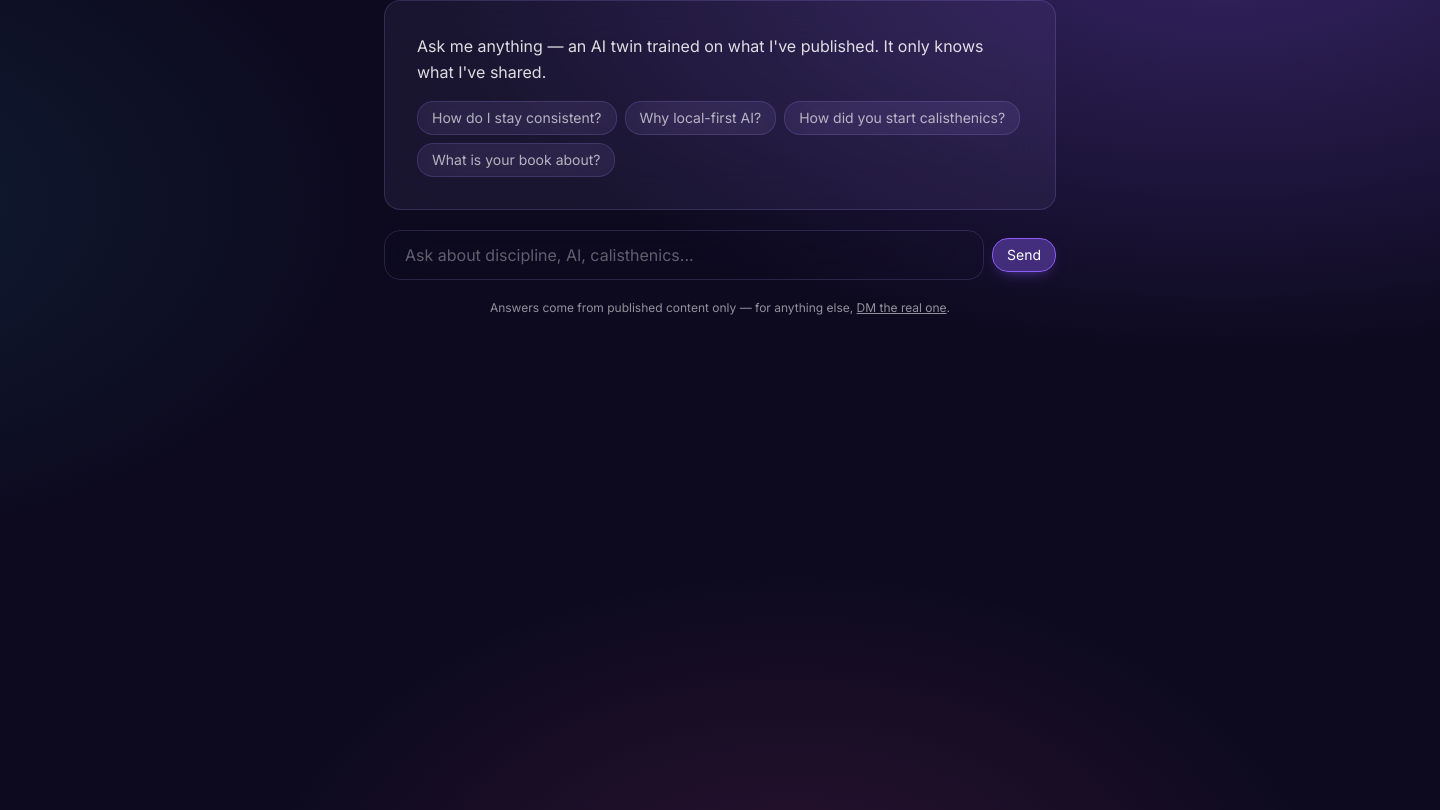
Test case: AskChat › shows a generic error state when the request fails
Type "Are you there?" into the field with test id "ask-input" at (684, 255), box [384,230,984,280]
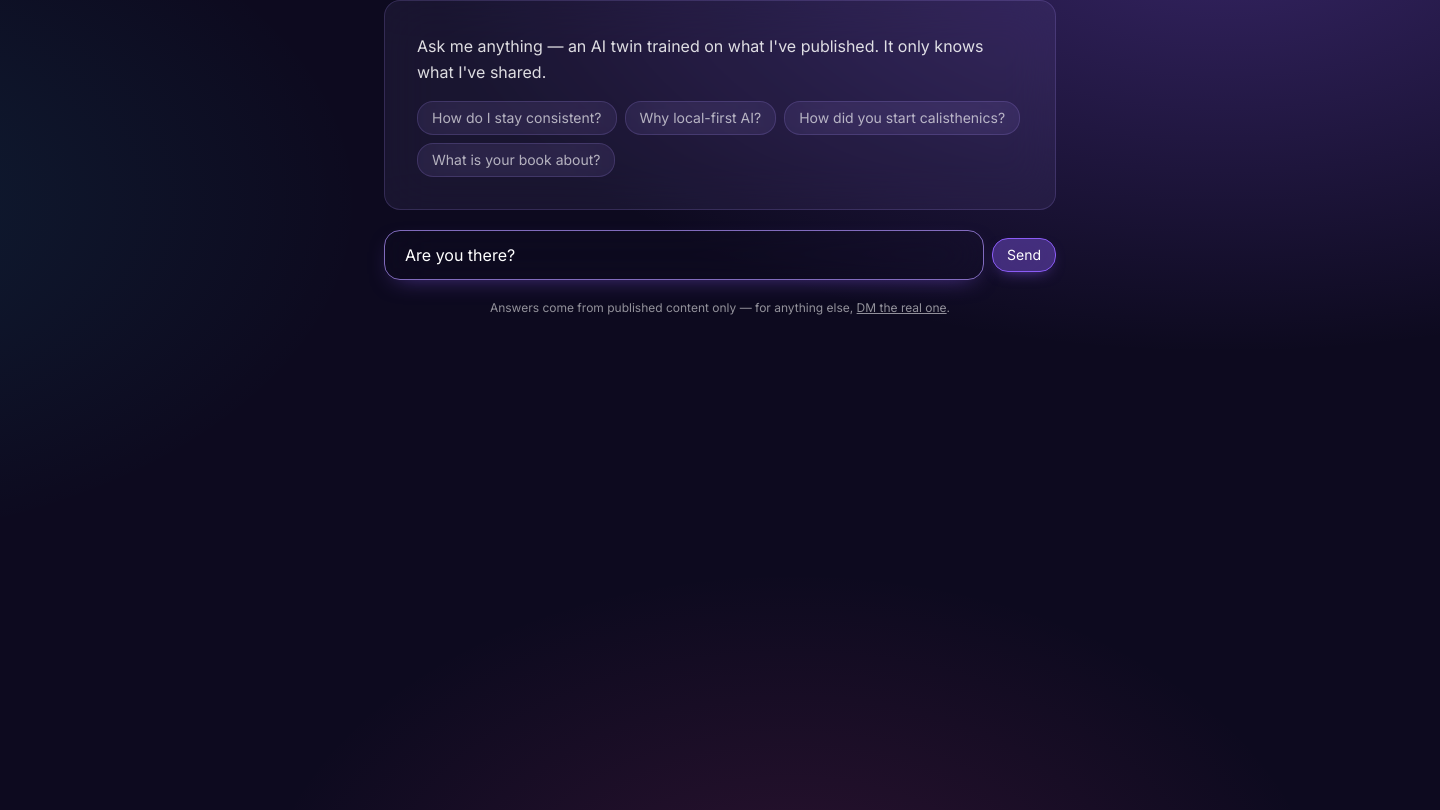
Click the button with test id "ask-send" at (1024, 255), box [992,238,1056,272]
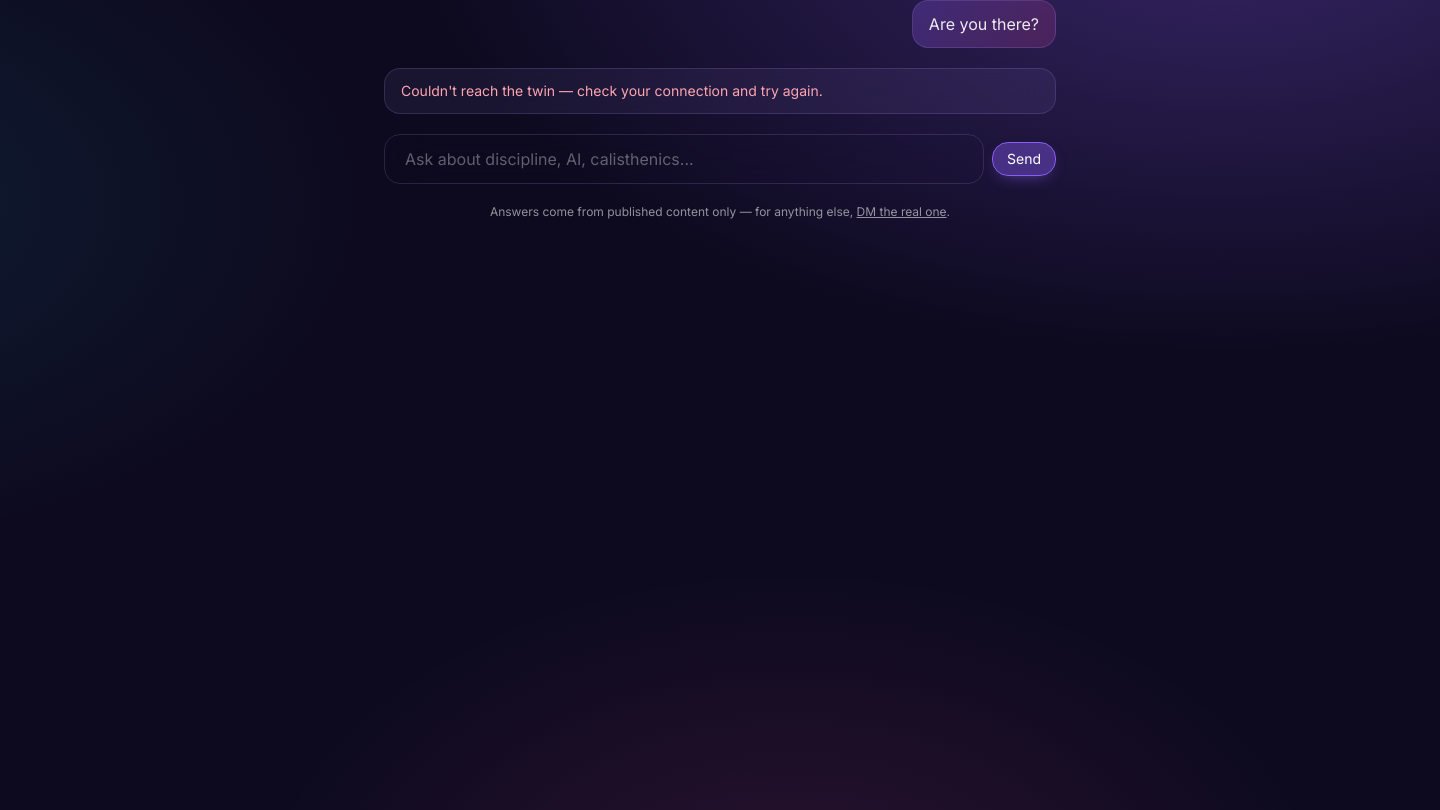
Now the message "Couldn't reach the twin — check your connection and try again." is shown, box [384,68,1056,114]
Now the message with test id "ask-error" shows "Couldn't reach the twin", box [401,82,823,99]
